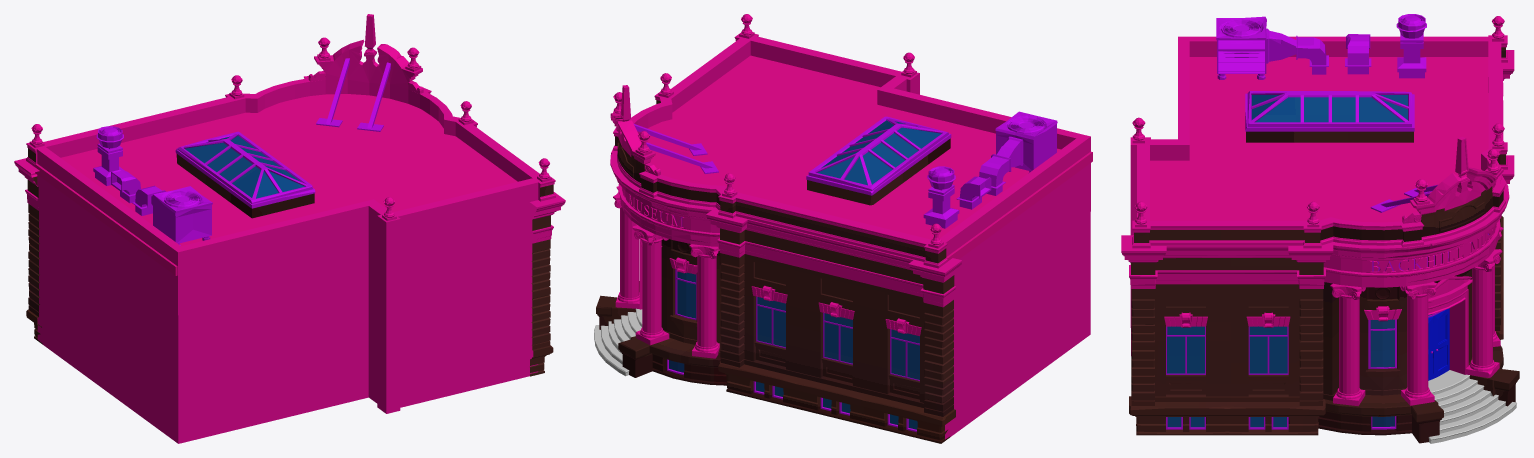
Rendered from Museum.fbx.
The picture shows the model from 3 angles, left to right: view 1: azimuth 30°, elevation 25°; view 2: azimuth 150°, elevation 25°; view 3: azimuth 270°, elevation 25°; orthographic projection. The views are drawn at different scales.
Parts seen in each view (by area): view 1: SM_Backhill_Museum_01.mo; view 2: SM_Backhill_Museum_01.mo; view 3: SM_Backhill_Museum_01.mo.
Part boxes in pixels (bbox=[...]): SM_Backhill_Museum_01.mo: bbox=[14, 14, 565, 443]; SM_Backhill_Museum_01.mo: bbox=[594, 14, 1092, 443]; SM_Backhill_Museum_01.mo: bbox=[1121, 14, 1519, 443].
Bounding box in the file's own units: 1584 × 1026 × 1312.
